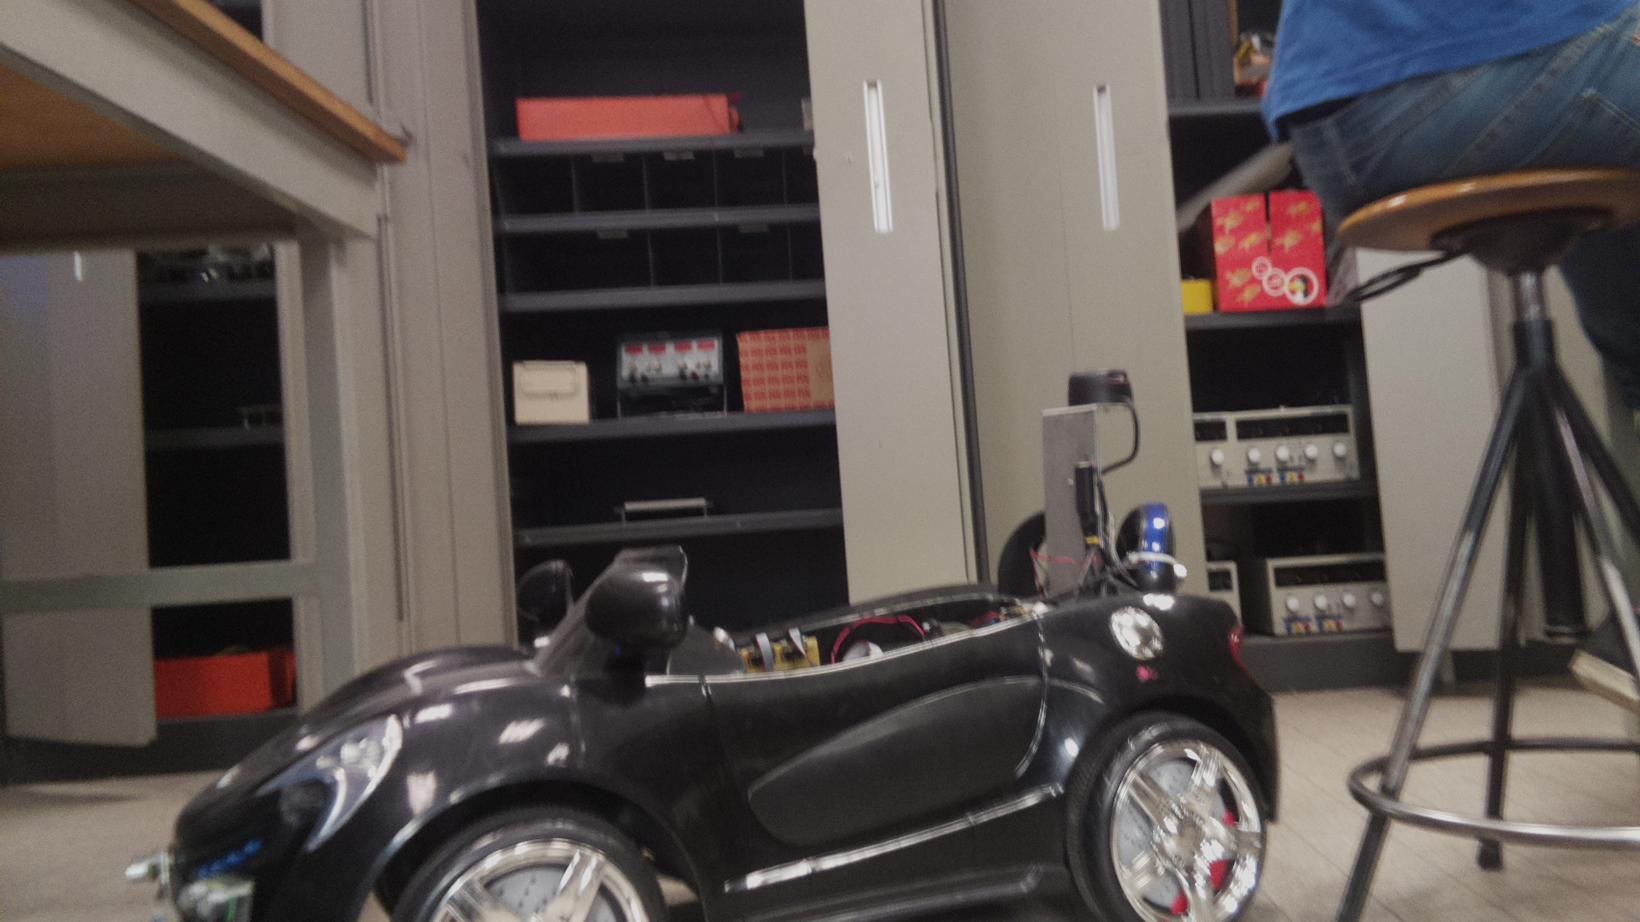big: (122, 365, 1285, 922)
